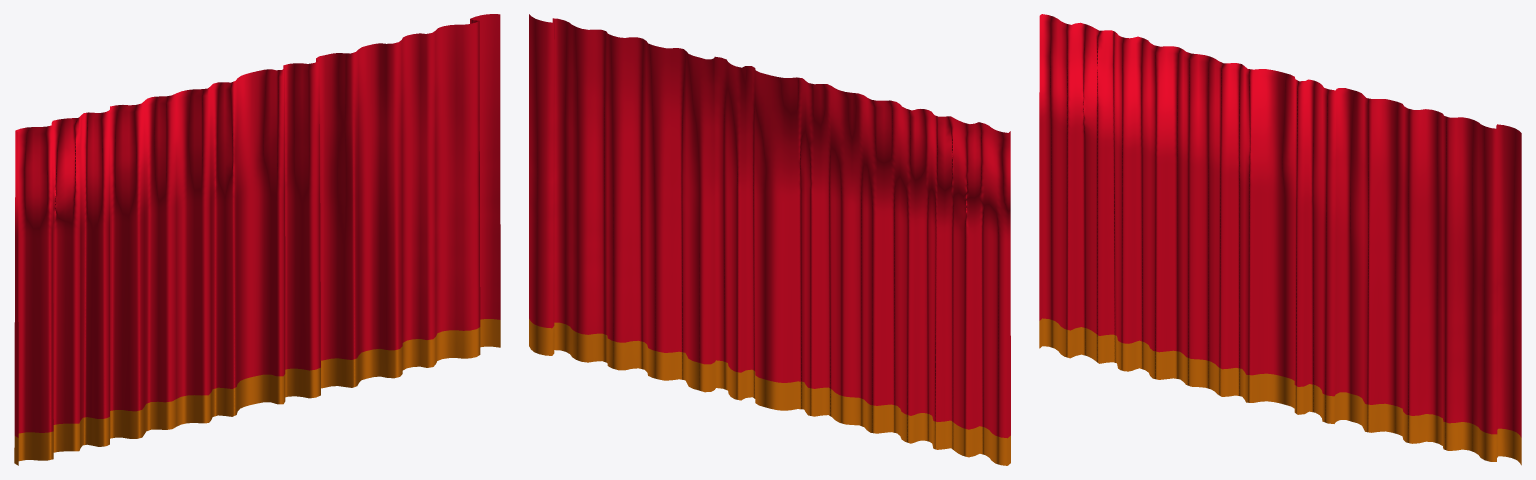
The model's file is Mesh_Curtains_Blend_Left.fbx.
3 renders of one model, left to right at view 1: azimuth 30°, elevation 25°; view 2: azimuth 150°, elevation 25°; view 3: azimuth 330°, elevation 25°, orthographic.
Parts seen in each view (by area): view 1: Curtains_Blend_Shapes:LeftCurtain_Blend; view 2: Curtains_Blend_Shapes:LeftCurtain_Blend; view 3: Curtains_Blend_Shapes:LeftCurtain_Blend.
Part boxes in pixels (left/top/right/bottom): Curtains_Blend_Shapes:LeftCurtain_Blend: left=14, top=14, right=500, bottom=465; Curtains_Blend_Shapes:LeftCurtain_Blend: left=529, top=14, right=1010, bottom=465; Curtains_Blend_Shapes:LeftCurtain_Blend: left=1039, top=14, right=1521, bottom=465.
Size of the model in its own units: 101 by 2647 by 1746.
